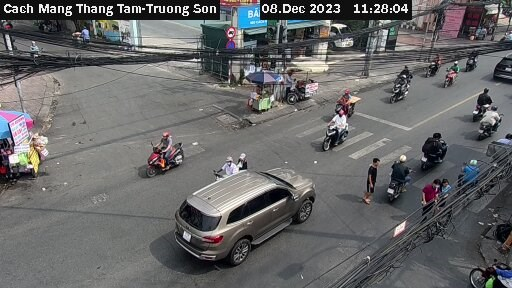car: (167, 166, 321, 264), (491, 53, 512, 85)
motorbike: (141, 133, 186, 183), (317, 110, 358, 159), (465, 251, 511, 287), (381, 158, 415, 204), (416, 132, 452, 173), (383, 67, 410, 113), (457, 48, 485, 80), (476, 107, 502, 138), (440, 64, 465, 93), (419, 55, 444, 83), (462, 93, 485, 117)
